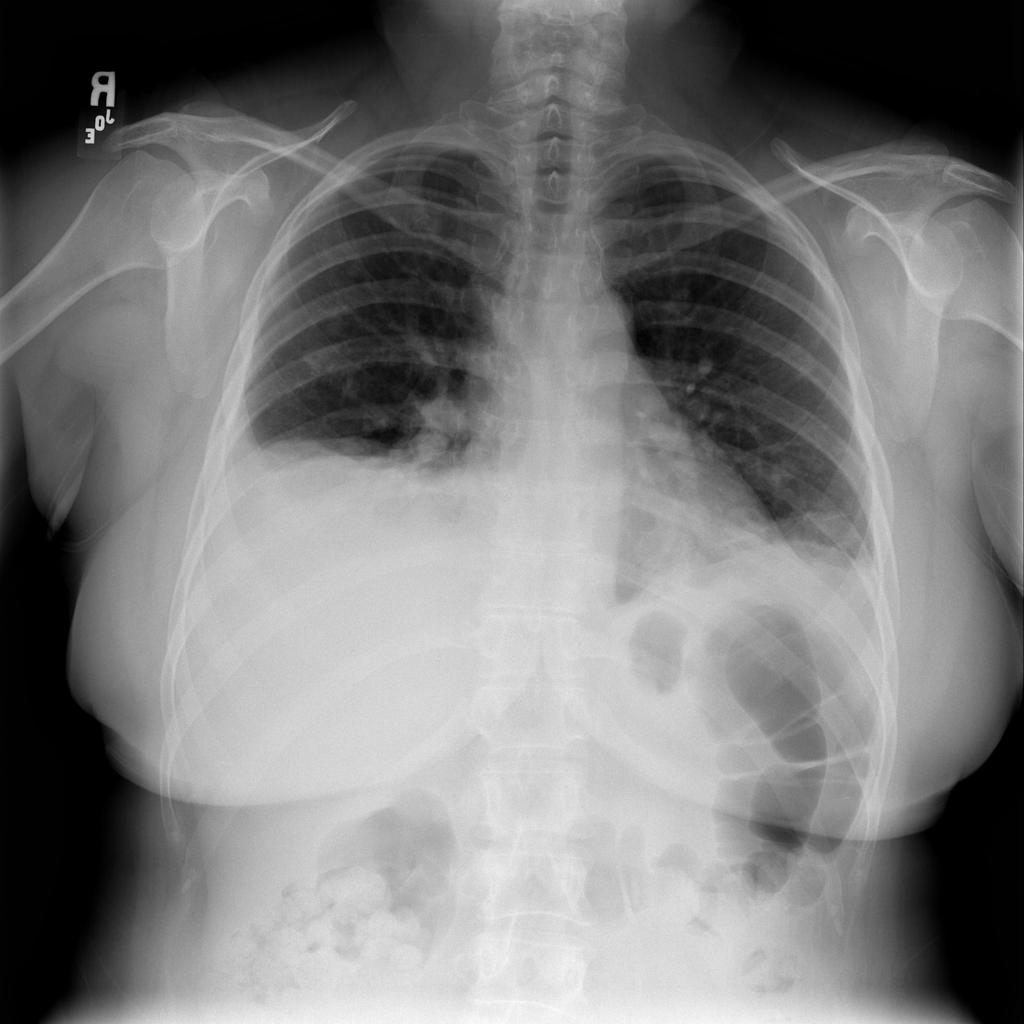nodule: (390, 388, 475, 463)
